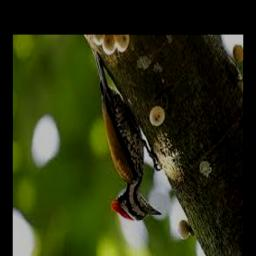Woodpecker: (93, 51, 162, 221)
